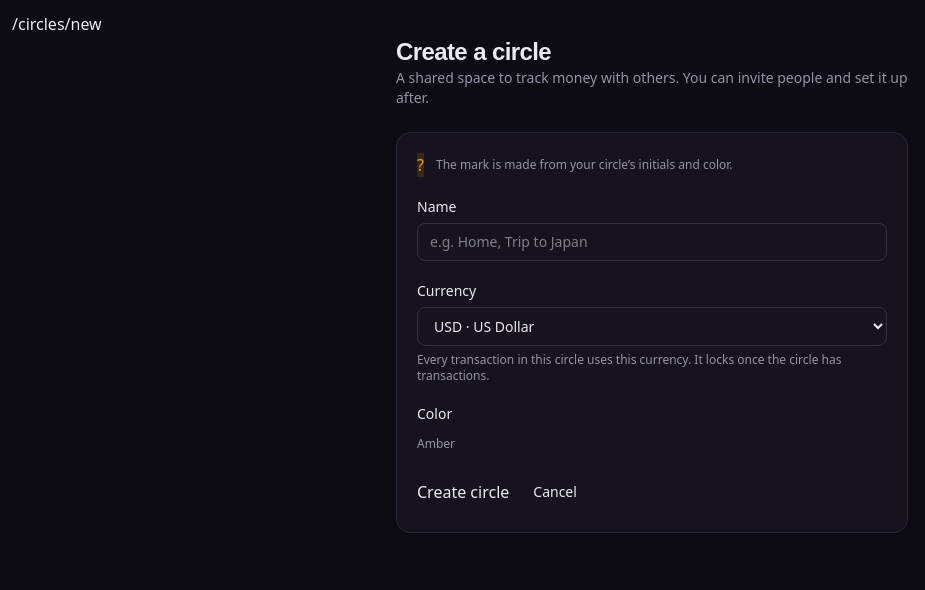
Test case: Create Circle › surfaces a failed create and stays on the form
The width and height of the screenshot is (925, 590).
Type "Trip" into the field labelled "Name" at {"x": 652, "y": 242}, box 417,223 -> 887,261
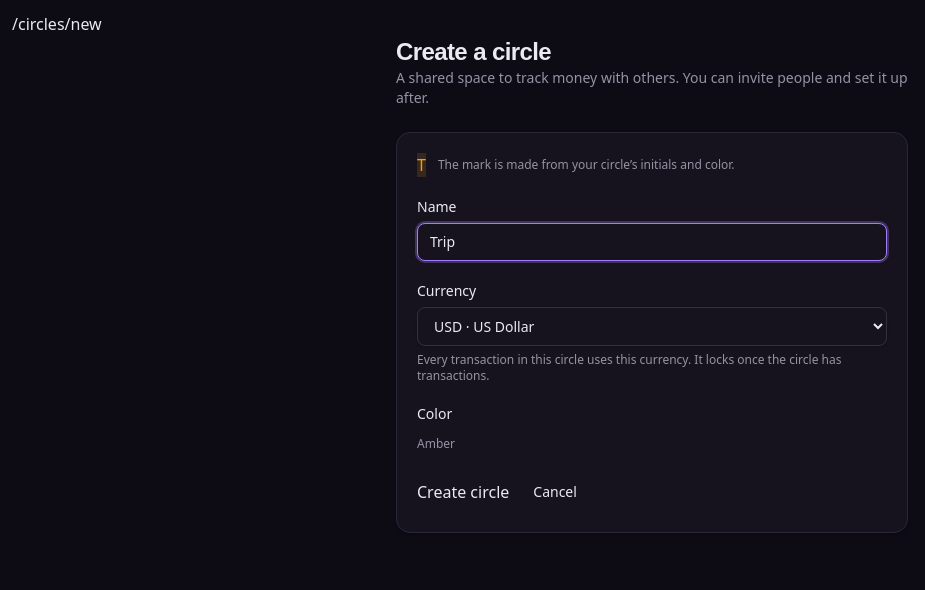
Click the button "Create circle" at {"x": 463, "y": 492}, box 417,480 -> 509,504
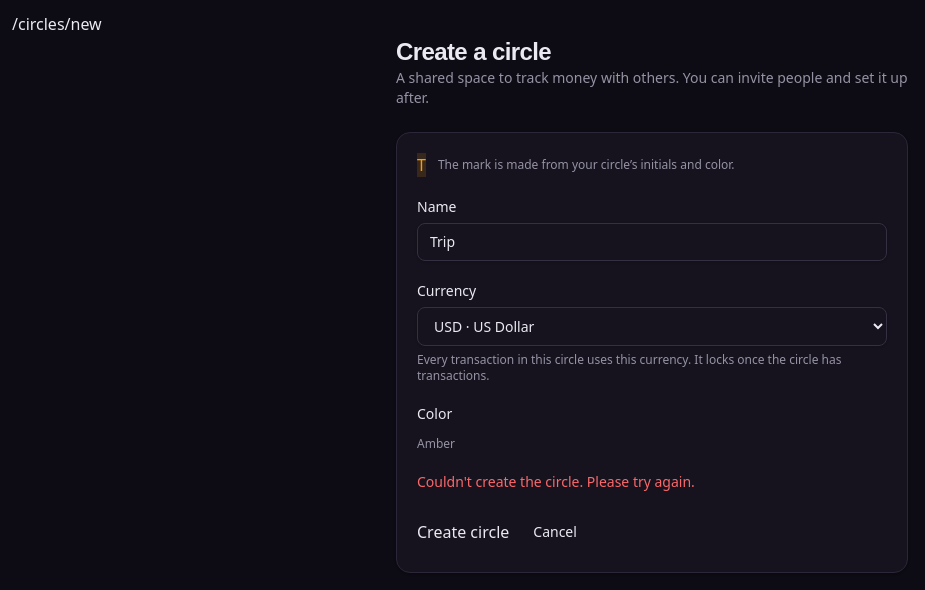
Expected: the text with test id "location" reads "/circles/new", 12,13 -> 102,35
Expected: the button "Create circle" is enabled, 417,520 -> 509,544
Expected: the message shows "Couldn't create the circle", 417,472 -> 695,491
